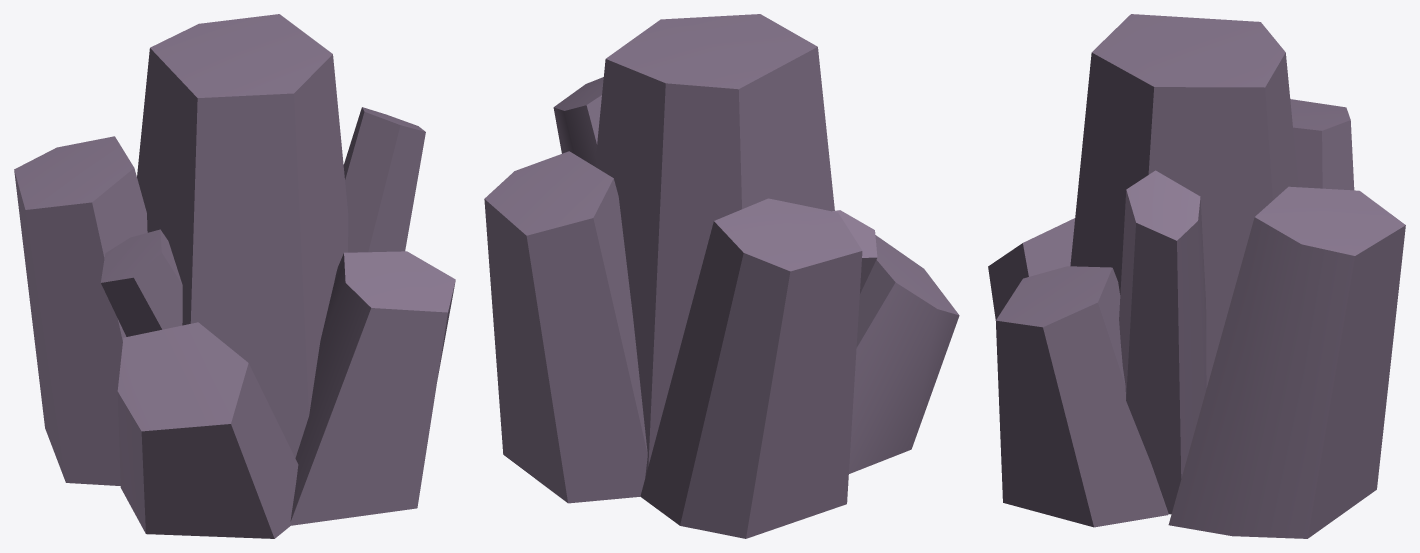
The model's file is Crystal_Big.glb.
3 renders of one model, left to right at view 1: azimuth 30°, elevation 25°; view 2: azimuth 150°, elevation 25°; view 3: azimuth 270°, elevation 25°, orthographic. The views are drawn at different scales.
Visible parts, largest first — view 1: Crystal_Big; view 2: Crystal_Big; view 3: Crystal_Big.
Part boxes in pixels (left/top/right/bottom): Crystal_Big: left=14, top=14, right=455, bottom=538; Crystal_Big: left=484, top=14, right=959, bottom=538; Crystal_Big: left=988, top=14, right=1405, bottom=538.
Bounding box in the file's own units: 1.5 × 1.66 × 1.52.
Materials: 1 (1 with a texture image).
